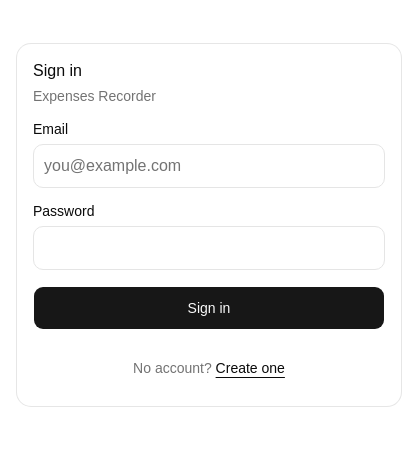
Test case: sign in (AC-5) › reports being unable to reach the server distinctly from a rejection
Step 1. Type "someone@example.com" into the field labelled "Email" → {"x": 209, "y": 166}, box [33,144,385,188]
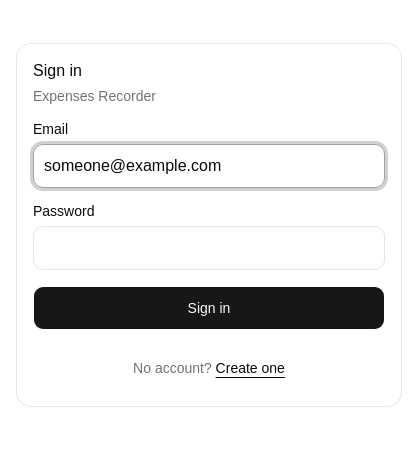
Step 2. Type "correct-horse-battery" into the password field labelled "Password" → {"x": 209, "y": 248}, box [33,226,385,270]
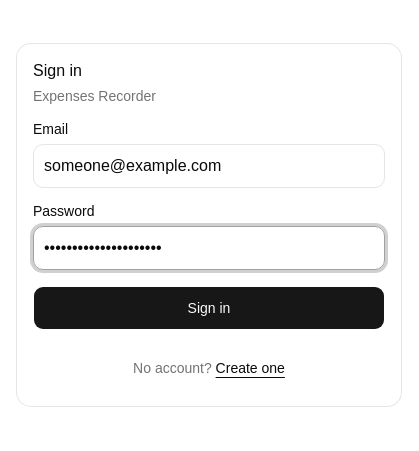
Step 3. Click the button "Sign in" → {"x": 209, "y": 308}, box [33,286,385,330]
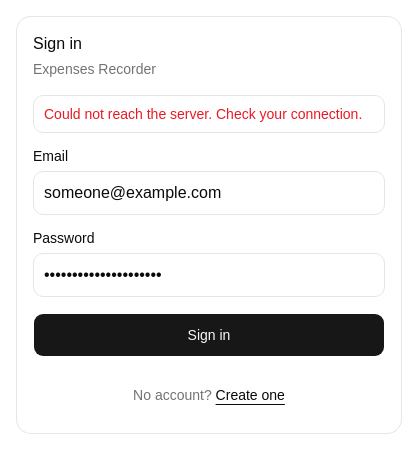
Expected: the message shows "connection", [44,106,362,122]
